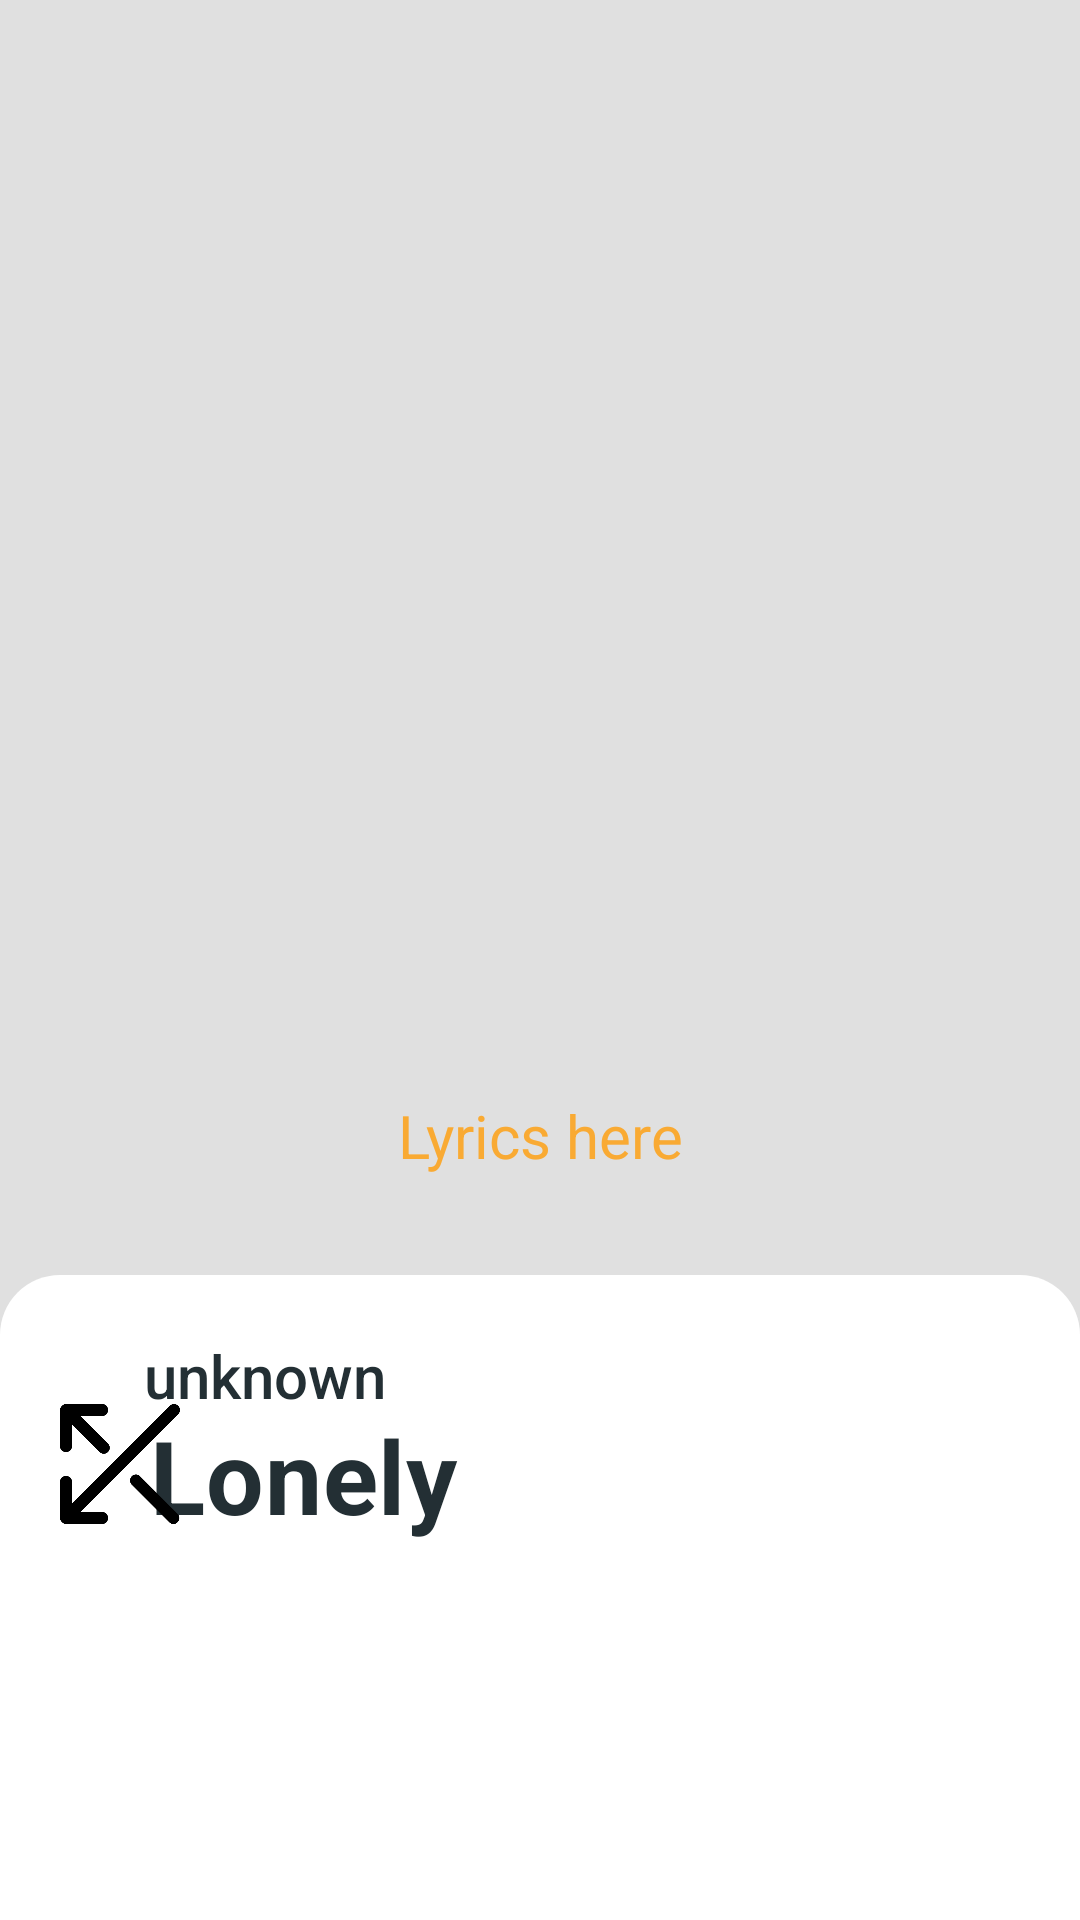

Where to tap for icons on this 1080x1920 app screen, as (x,y):
shuffle: (120,1464)
